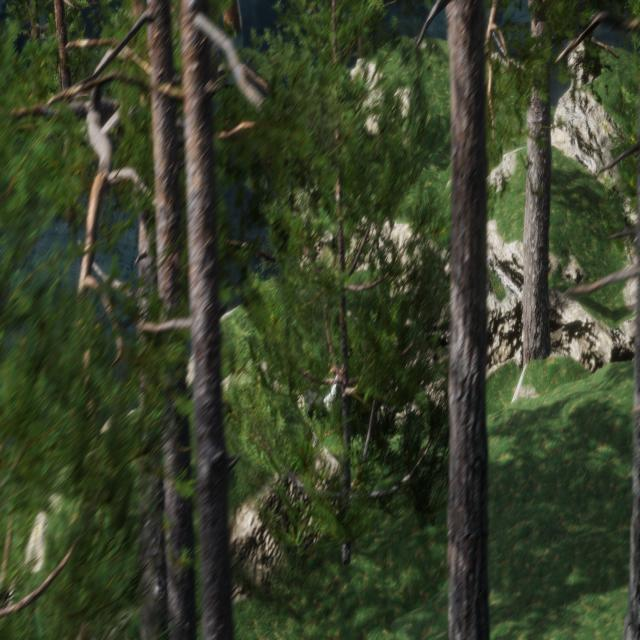Human: (302, 345, 351, 427)
